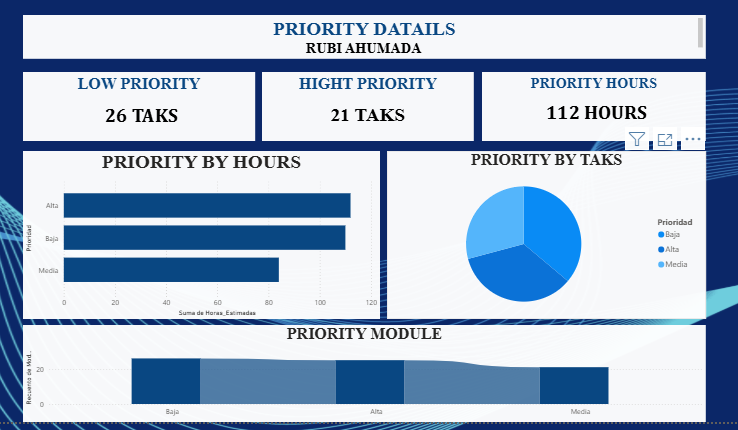

Layout of this report page (visuals, bound fields, positions):
{"tool":"powerbi","page":{"name":"PRIORITY DATAILS","canvas":[1280,720],"ordinal":3},"visuals":[{"type":"textbox","box":[840,136.7,373.3,115],"z":1000},{"type":"textbox","box":[473.3,136.7,353.3,115],"z":2000},{"type":"textbox","box":[75,136.7,386.7,115],"z":3000},{"type":"textbox","box":[75,41.7,1138.3,73.3],"z":4000},{"type":"barChart","title":"PRIORITY BY HOURS","fields":{"Category":["Hoja 1.Prioridad"],"Y":["Sum(Hoja 1.Horas_Estimadas)"]},"box":[75,268.3,595,280],"z":5000},{"type":"pieChart","title":"PRIORITY BY TAKS","fields":{"Category":["Hoja 1.Prioridad"],"Y":["CountNonNull(Hoja 1.Tarea)"]},"box":[681.7,268.3,531.7,280],"z":6000},{"type":"ribbonChart","title":"PRIORITY MODULE","fields":{"Category":["Hoja 1.Prioridad"],"Y":["CountNonNull(Hoja 1.Modulo)"]},"box":[75,558.3,1138.3,161.7],"z":7000}]}

Visuals, with their boxes on the page's 1280x720 design canvas (x1, y1, x2, y2). These are canvas units, not pixel positions in the 738x430 screenshot, which may show the page scaled, cropped or inside an application window:
textbox: box(840, 137, 1213, 252)
textbox: box(473, 137, 827, 252)
textbox: box(75, 137, 462, 252)
textbox: box(75, 42, 1213, 115)
"PRIORITY BY HOURS" barChart: box(75, 268, 670, 548)
"PRIORITY BY TAKS" pieChart: box(682, 268, 1213, 548)
"PRIORITY MODULE" ribbonChart: box(75, 558, 1213, 720)
